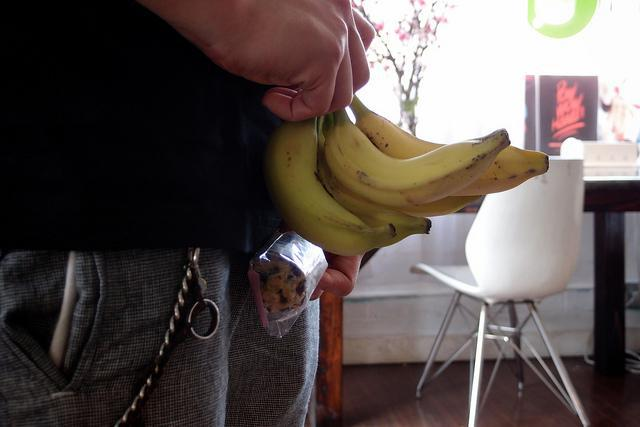hand: (153, 2, 377, 128)
